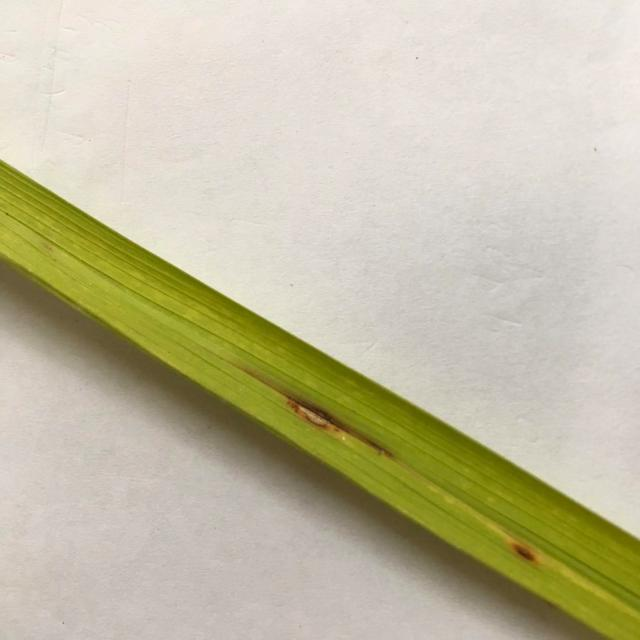Blast: (287, 392, 343, 437), (512, 536, 538, 568)
